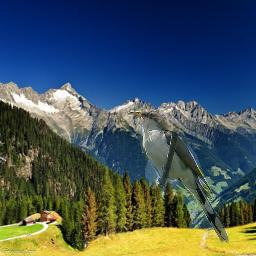Cuckoo: (127, 108, 229, 243)
